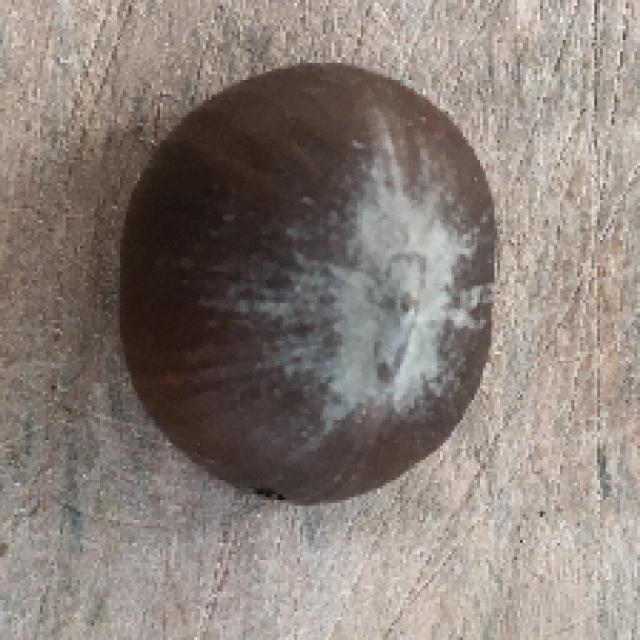damagedHazelnut: (110, 62, 514, 510)
